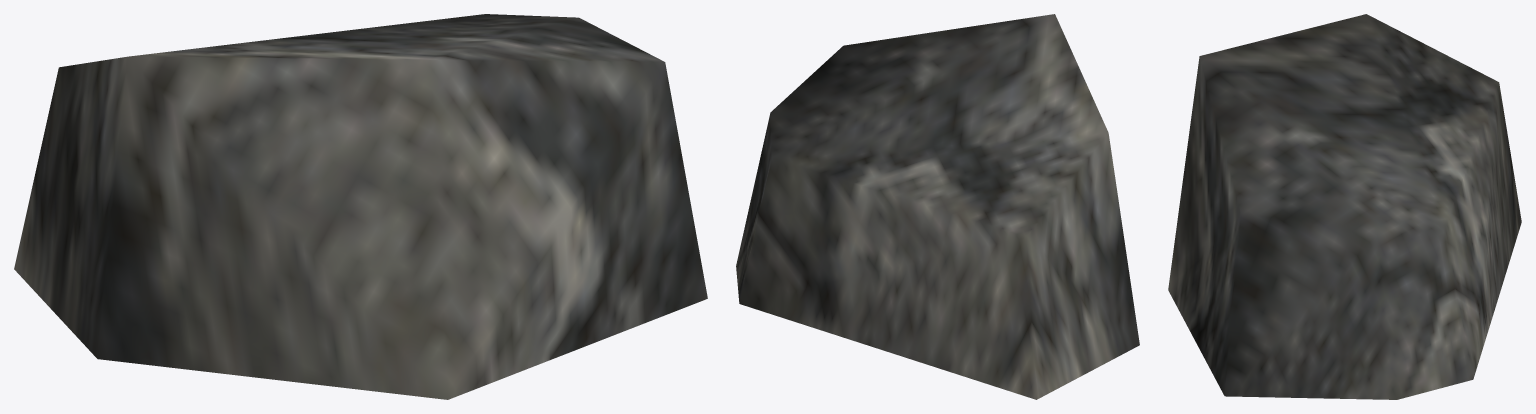
The model's file is SC_yonghengsenlin_shitou09.FBX.
The picture shows the model from 3 angles, left to right: view 1: azimuth 30°, elevation 25°; view 2: azimuth 150°, elevation 25°; view 3: azimuth 270°, elevation 25°; orthographic projection. The views are drawn at different scales.
Parts seen in each view (by area): view 1: SC_yonghengsenlin_shitou09; view 2: SC_yonghengsenlin_shitou09; view 3: SC_yonghengsenlin_shitou09.
Part boxes in pixels (bbox=[...]): SC_yonghengsenlin_shitou09: bbox=[14, 14, 707, 399]; SC_yonghengsenlin_shitou09: bbox=[736, 14, 1139, 399]; SC_yonghengsenlin_shitou09: bbox=[1168, 14, 1521, 399].
Bounding box in the file's own units: 95.95 × 55.9 × 76.09.
